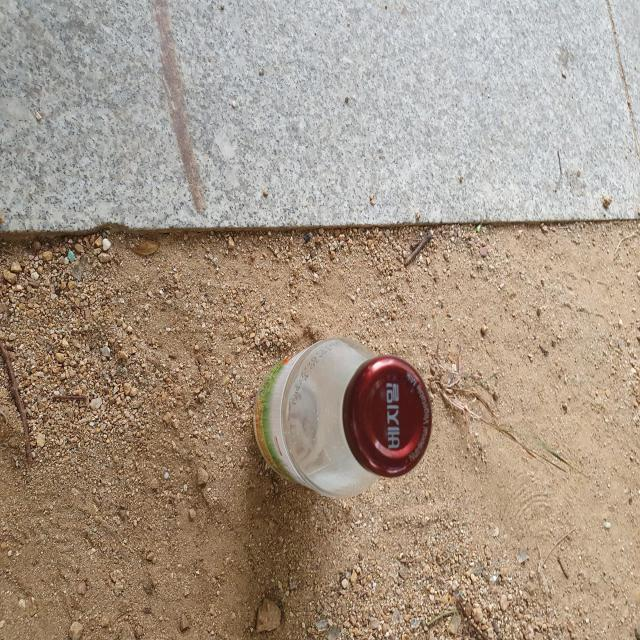glass: (253, 338, 433, 498)
